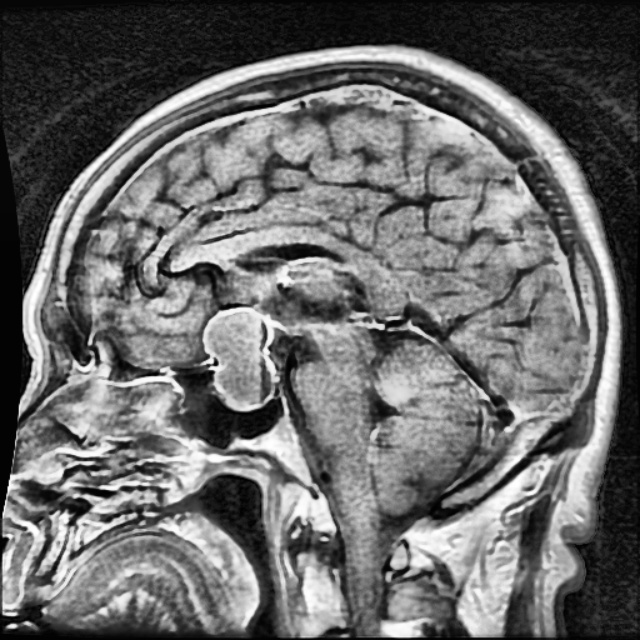Pituitary: (202, 307, 275, 412)
